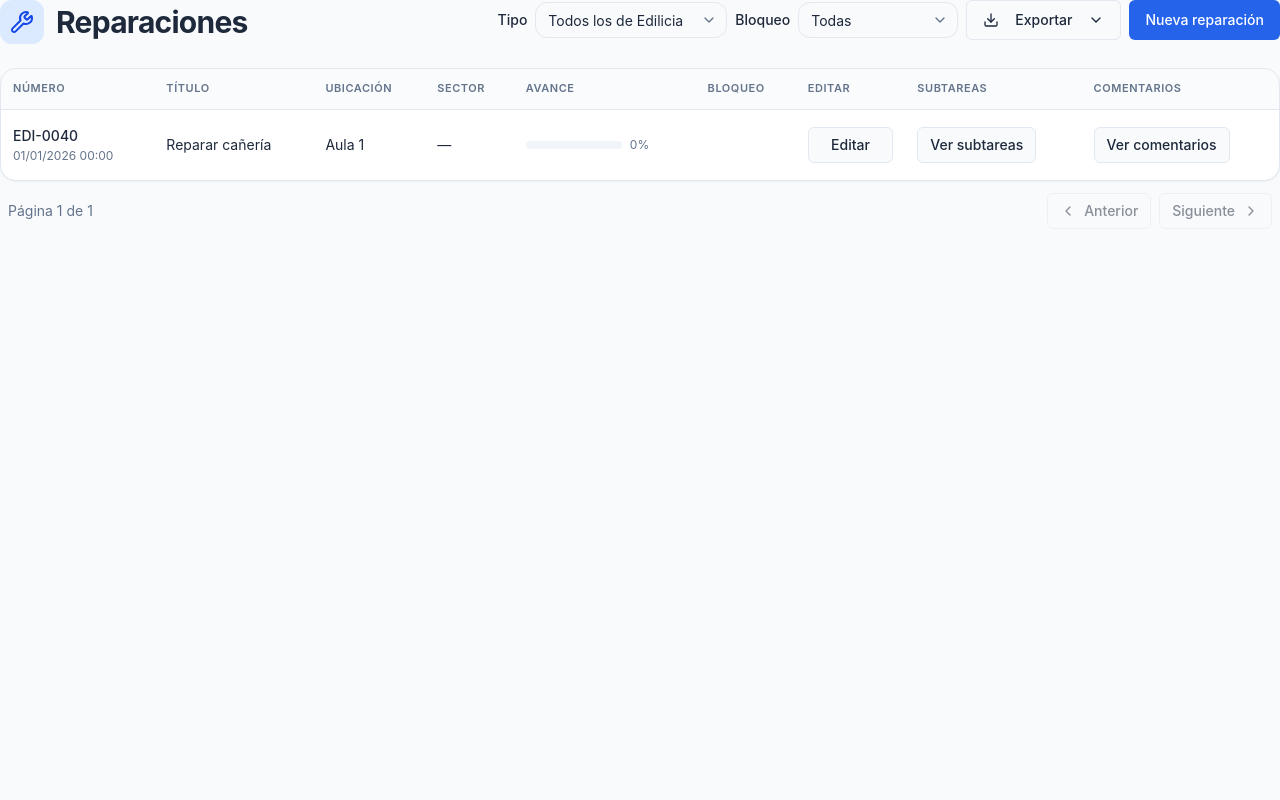
Test: ReparacionesList — editar una reparación no empezada (odd/detalle-ticket-legible, S6) › el diálogo precarga la fila y hace PATCH /reparaciones/:id con los cinco campos; el listado se refresca
This screenshot has width=1280, height=800.
Expected: the text "EDI-0040" is shown, [13,126,78,144]
Click the button with aria-label "Editar EDI-0040" at (850, 144), box [808,126,893,162]
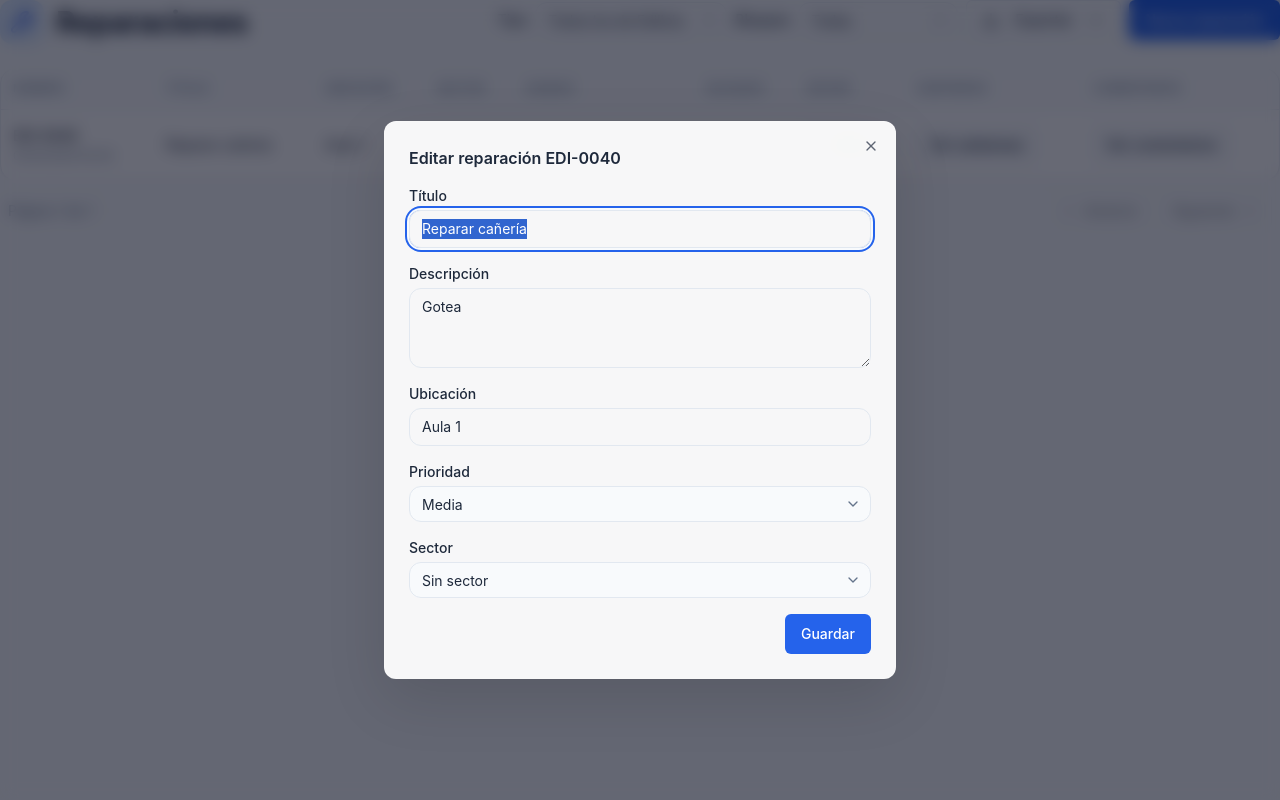
Now the field labelled "Título" holds "Reparar cañería"
Now the text box labelled "Descripción" holds "Gotea", box [409,288,871,368]
Now the field labelled "Ubicación" holds "Aula 1", box [409,408,871,446]
Replace the text in the field labelled "Título" with "Reparar la cañería del baño" at (640, 229), box [409,210,871,248]
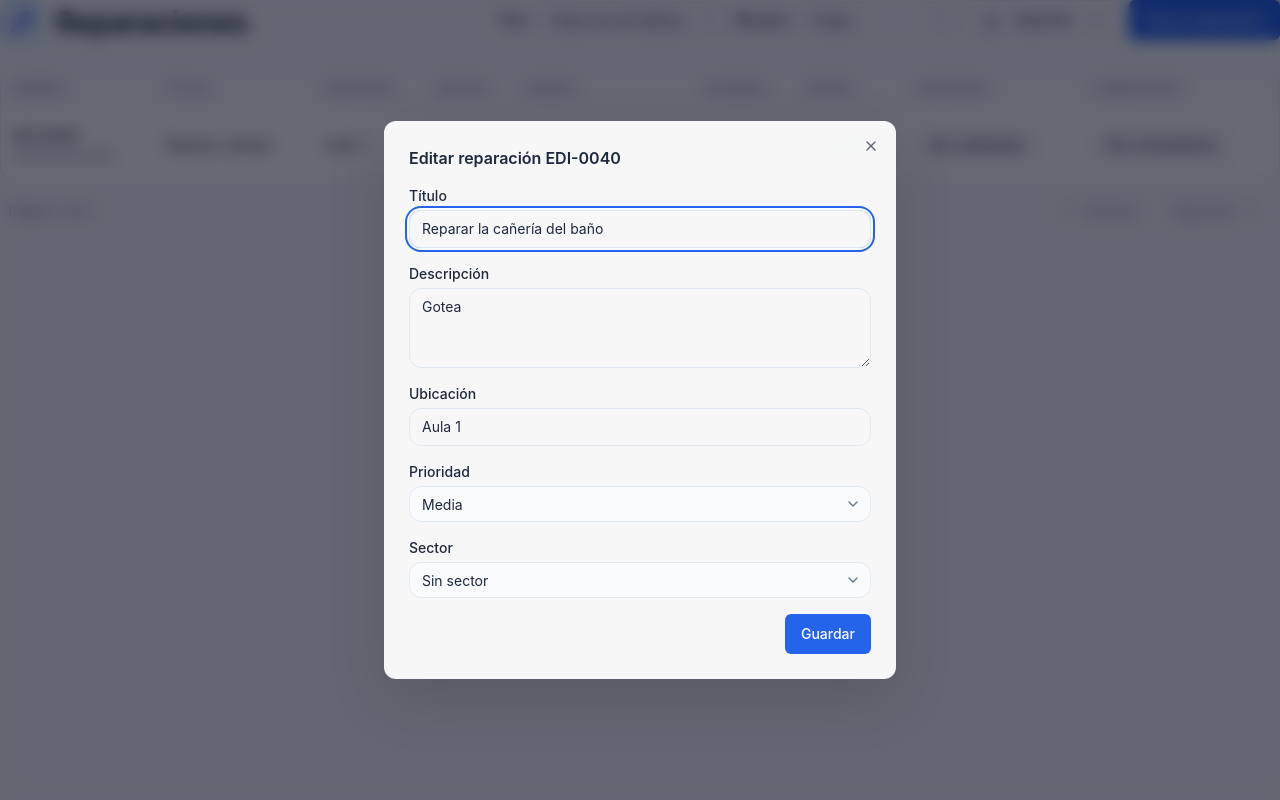
Select "Alta" in the dropdown labelled "Prioridad" at (640, 504), box [409,486,871,522]
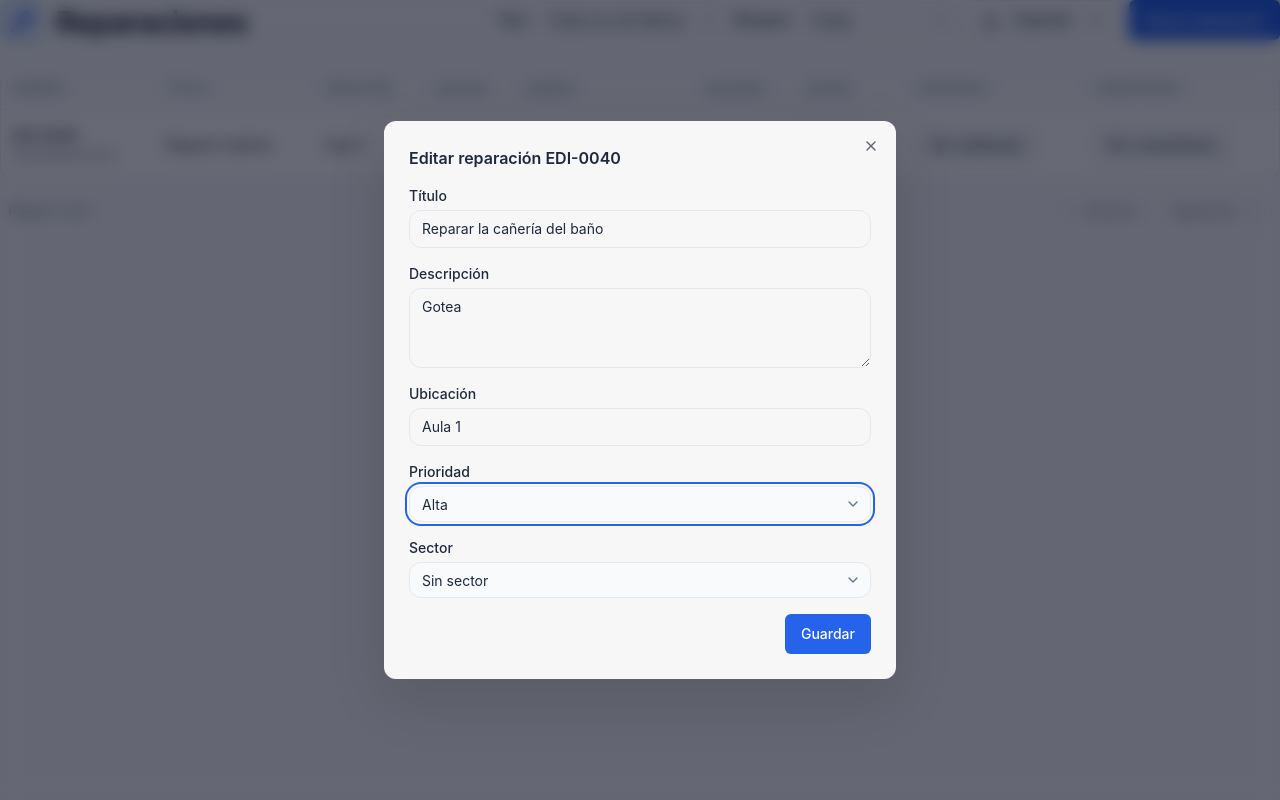
Click the button "Guardar" at (828, 634), box [785,614,871,654]
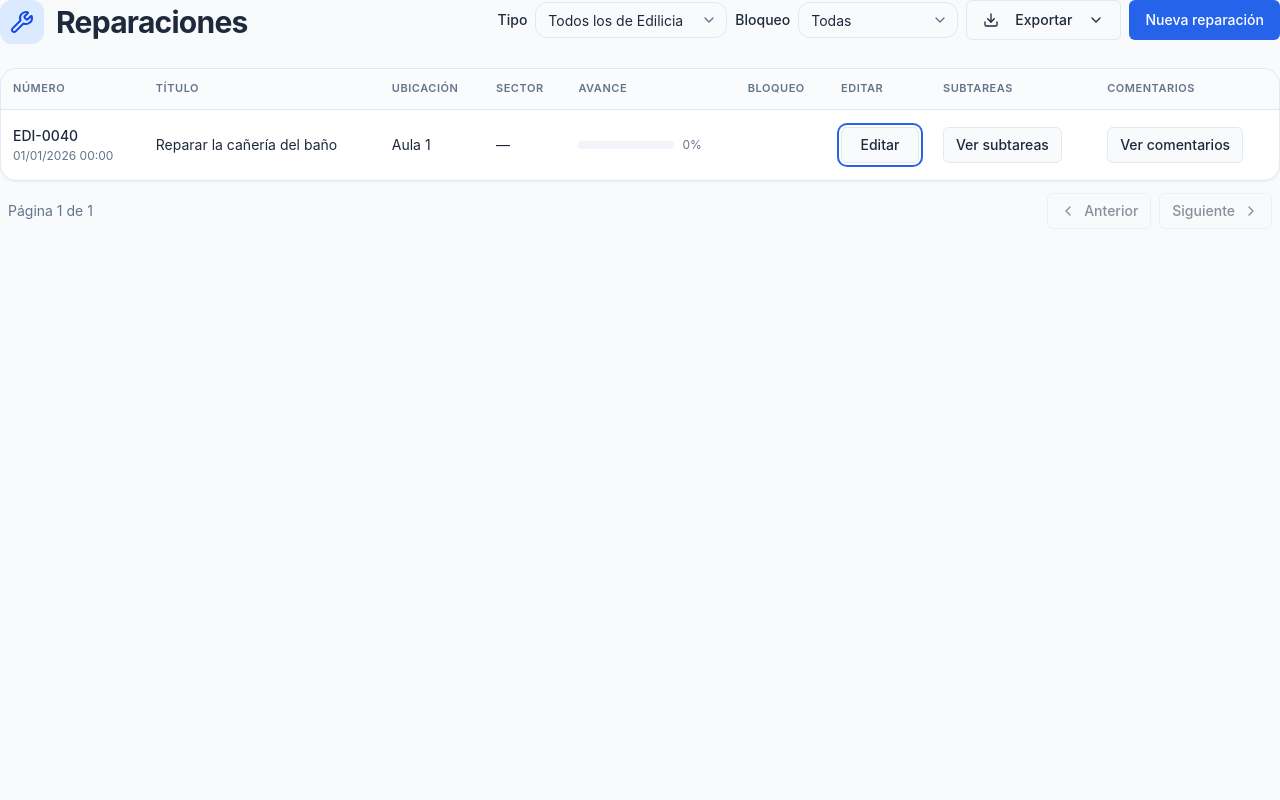
Now the text "Reparar la cañería del baño" is shown, box [144,109,380,180]
